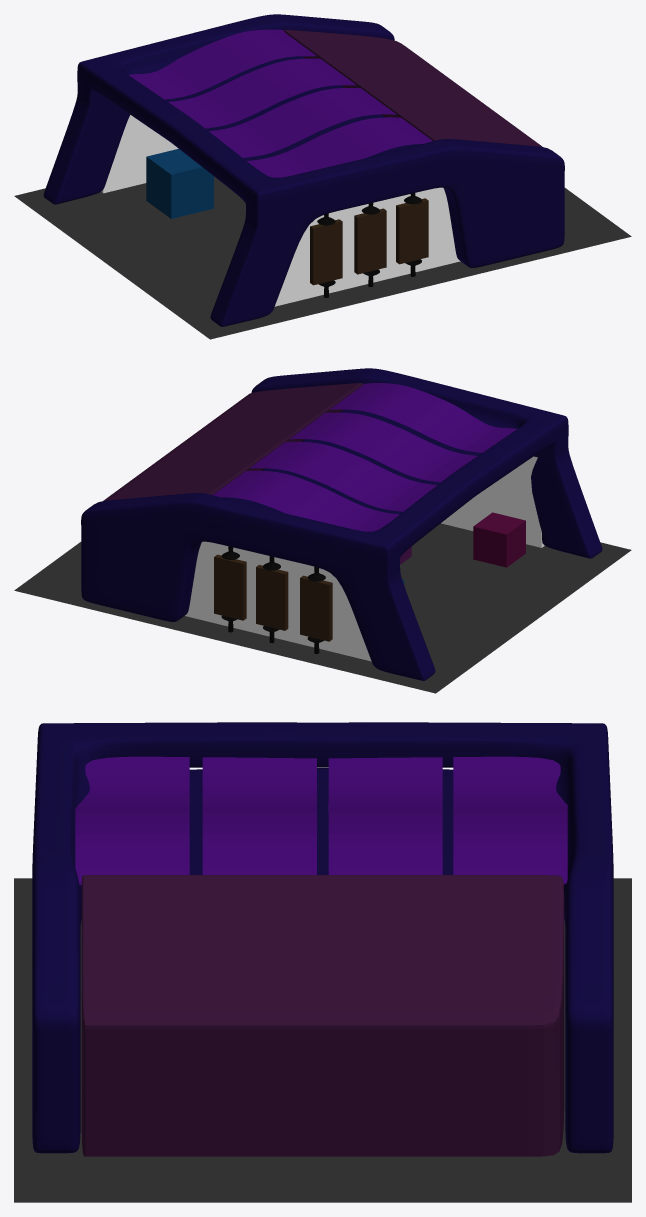
Rendered from Kiosco Futurista.fbx.
3 views of the same model, one above another, from view 1: azimuth 30°, elevation 25°; view 2: azimuth 150°, elevation 25°; view 3: azimuth 270°, elevation 25° (orthographic). The views are drawn at different scales.
Visible parts, largest first — view 1: Cube.002, Plane, Cube, Cube.015, Plane.004, Plane.003, Plane.001, Plane.005, Cube.017, Cube.014, Cube.003, Cube.004 (+1 smaller); view 2: Cube.002, Plane, Cube, Cube.014, Plane.003, Plane.004, Plane.005, Plane.001, Cube.015, Cube.018, Cube.005, Cube.007 (+1 smaller); view 3: Cube, Cube.002, Plane, Plane.004, Plane.003, Plane.001, Plane.005.
Part boxes in pixels (x1,y1,x2,y2): Cube.002: (43, 14, 564, 326); Plane: (14, 176, 631, 339); Cube: (283, 30, 542, 146); Cube.015: (274, 187, 460, 306); Plane.004: (209, 88, 396, 157); Plane.003: (168, 58, 356, 128); Plane.001: (129, 29, 316, 99); Plane.005: (247, 117, 432, 177); Cube.017: (146, 148, 213, 218); Cube.014: (101, 115, 178, 193); Cube.003: (354, 208, 386, 274); Cube.004: (310, 219, 342, 285); Cube.002: (81, 368, 602, 680); Plane: (14, 523, 631, 693); Cube: (103, 383, 363, 500); Cube.014: (185, 541, 371, 661); Plane.003: (249, 441, 437, 511); Plane.004: (289, 412, 477, 482); Plane.005: (330, 383, 516, 452); Plane.001: (213, 470, 399, 531); Cube.015: (441, 456, 544, 547); Cube.018: (473, 512, 525, 567); Cube.005: (214, 554, 246, 620); Cube.007: (300, 575, 332, 641); Cube: (81, 875, 564, 1156); Cube.002: (32, 722, 613, 1153); Plane: (14, 878, 631, 1202); Plane.004: (202, 757, 316, 874); Plane.003: (328, 757, 442, 874); Plane.001: (453, 756, 567, 884); Plane.005: (75, 756, 189, 884).
Bounding box in the file's own units: 3618 × 1073 × 2914.
